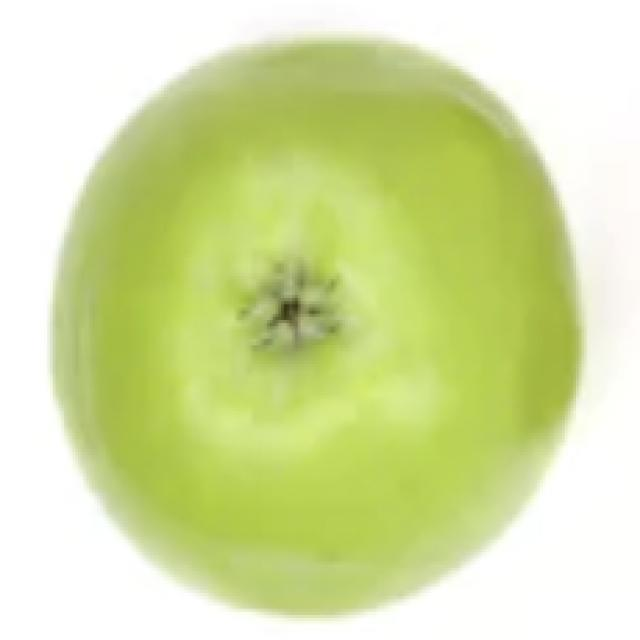Fresh Apple: (57, 38, 588, 597)
